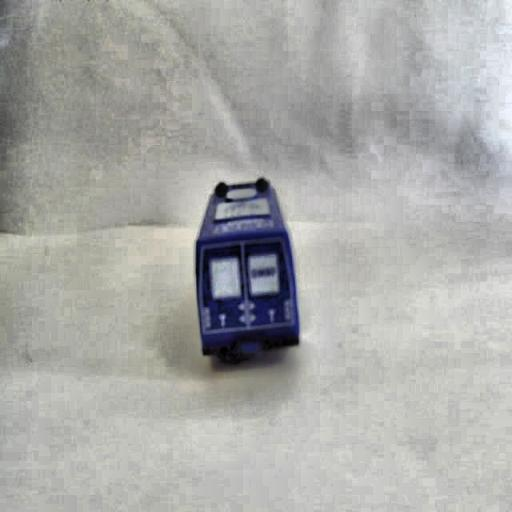police car: (190, 172, 304, 361)
